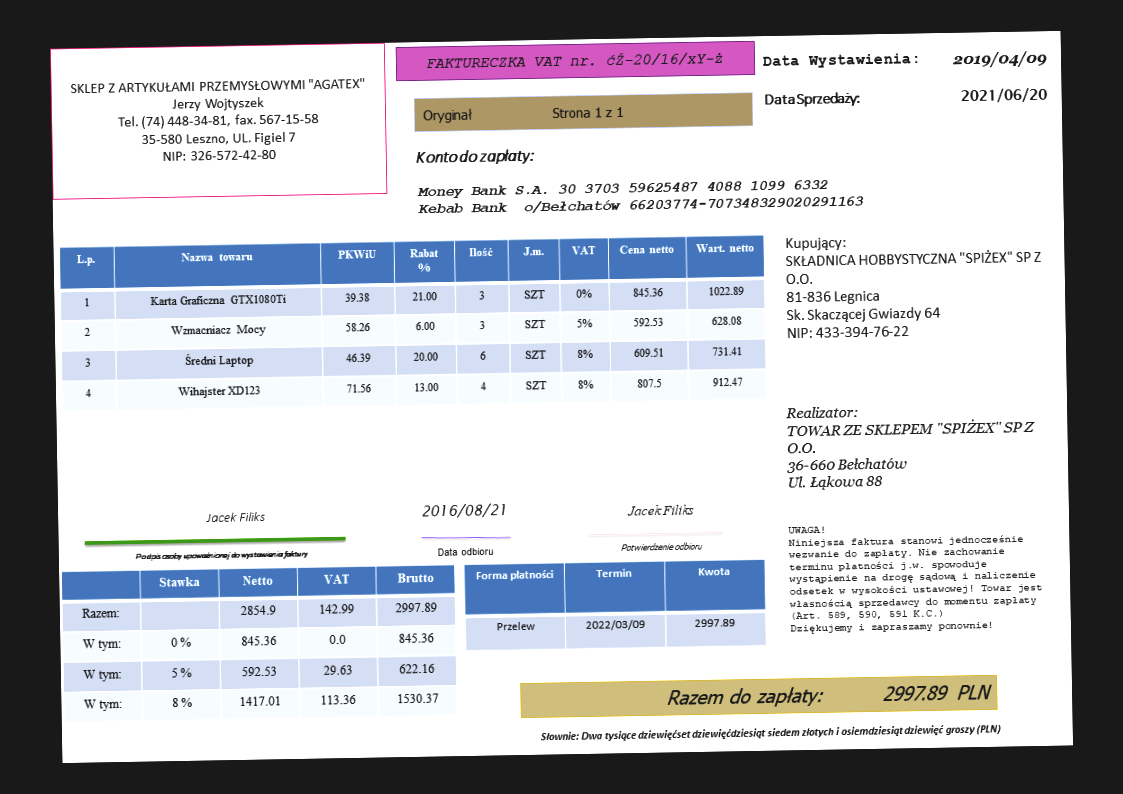Table: (58, 232, 769, 413), (60, 563, 459, 724), (462, 556, 768, 652)
TextBox: (781, 228, 1048, 345), (785, 518, 1046, 636), (66, 73, 369, 167), (783, 399, 1039, 493), (414, 175, 866, 218), (537, 720, 1004, 747), (663, 679, 994, 710), (424, 49, 726, 72), (420, 102, 626, 127), (133, 545, 310, 566), (759, 49, 920, 70), (412, 144, 537, 169), (760, 88, 862, 111), (417, 499, 508, 523), (949, 50, 1050, 71), (959, 84, 1047, 107), (623, 499, 696, 520), (617, 539, 706, 555), (203, 507, 269, 527), (435, 544, 495, 559)
